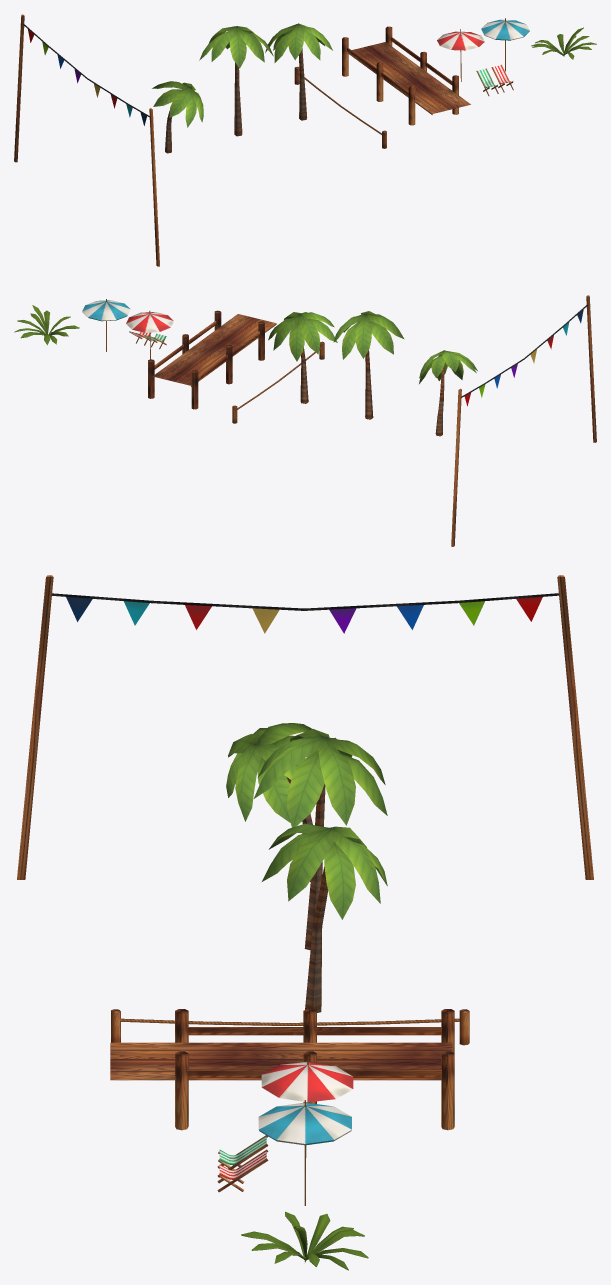
File: Props.fbx
3 views of the same model, one above another, from view 1: azimuth 30°, elevation 25°; view 2: azimuth 150°, elevation 25°; view 3: azimuth 270°, elevation 25° (orthographic). The views are drawn at different scales.
Parts seen in each view (by area): view 1: Dock, Tree02, Flags, Tree01, Tree03, Umbrella02, Umbrella01, Plant, Rope; view 2: Dock, Tree02, Tree01, Flags, Tree03, Plant, Umbrella02, Umbrella01, Rope; view 3: Dock, Flags, Tree02, Tree01, Tree03, Umbrella02, Umbrella01, Plant, Rope.
Boxes of the visible parts, x1,y1,x2,y2 form: Dock: (342,26,470,125); Tree02: (199,26,273,136); Flags: (14,14,159,266); Tree01: (265,23,332,120); Tree03: (152,81,203,153); Umbrella02: (481,18,529,71); Umbrella01: (437,29,484,81); Plant: (531,27,596,59); Rope: (294,66,386,148); Dock: (148,310,276,409); Tree02: (333,311,404,419); Tree01: (268,312,337,403); Flags: (451,295,596,546); Tree03: (419,350,477,436); Plant: (14,305,79,345); Umbrella02: (82,299,130,351); Umbrella01: (126,311,173,359); Rope: (232,341,324,423); Dock: (110,1009,454,1130); Flags: (17,575,593,879); Tree02: (254,729,387,950); Tree01: (262,823,387,1012); Tree03: (226,723,312,881); Umbrella02: (258,1100,351,1205); Umbrella01: (261,1058,353,1157); Plant: (241,1211,368,1270); Rope: (111,1009,469,1045).
Size of the model in its own units: 169 by 48.51 by 83.8.
Materials: 1 (1 with a texture image).
